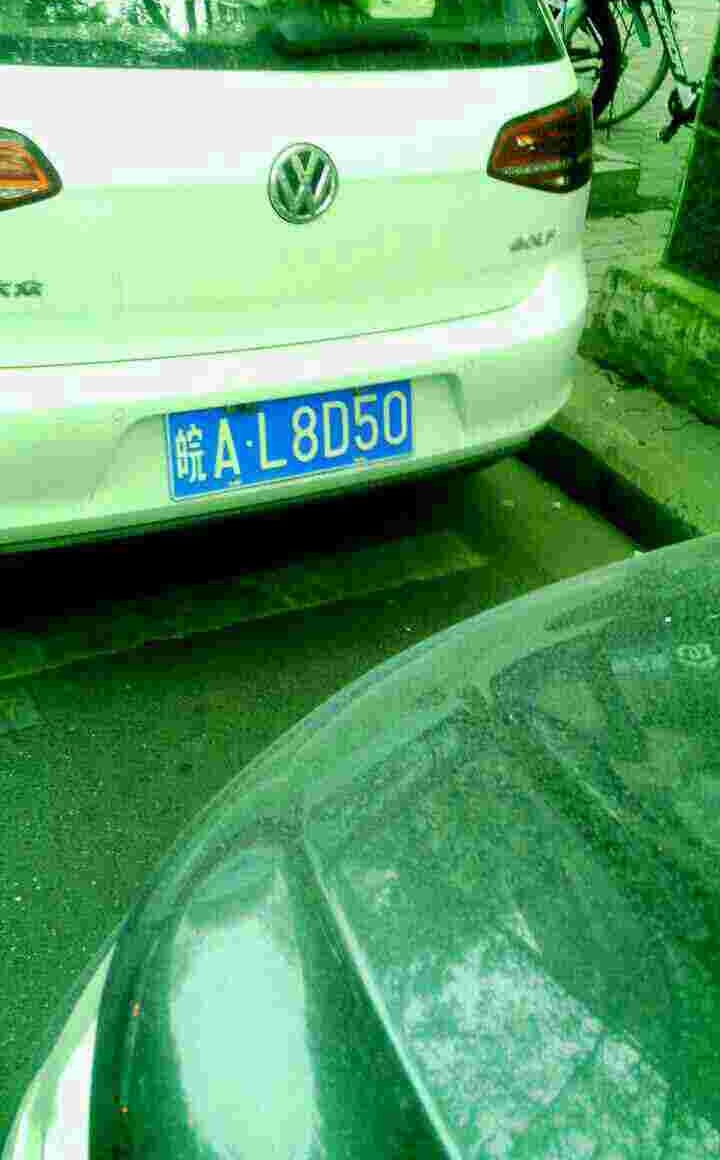license_plate: (171, 382, 415, 498)
